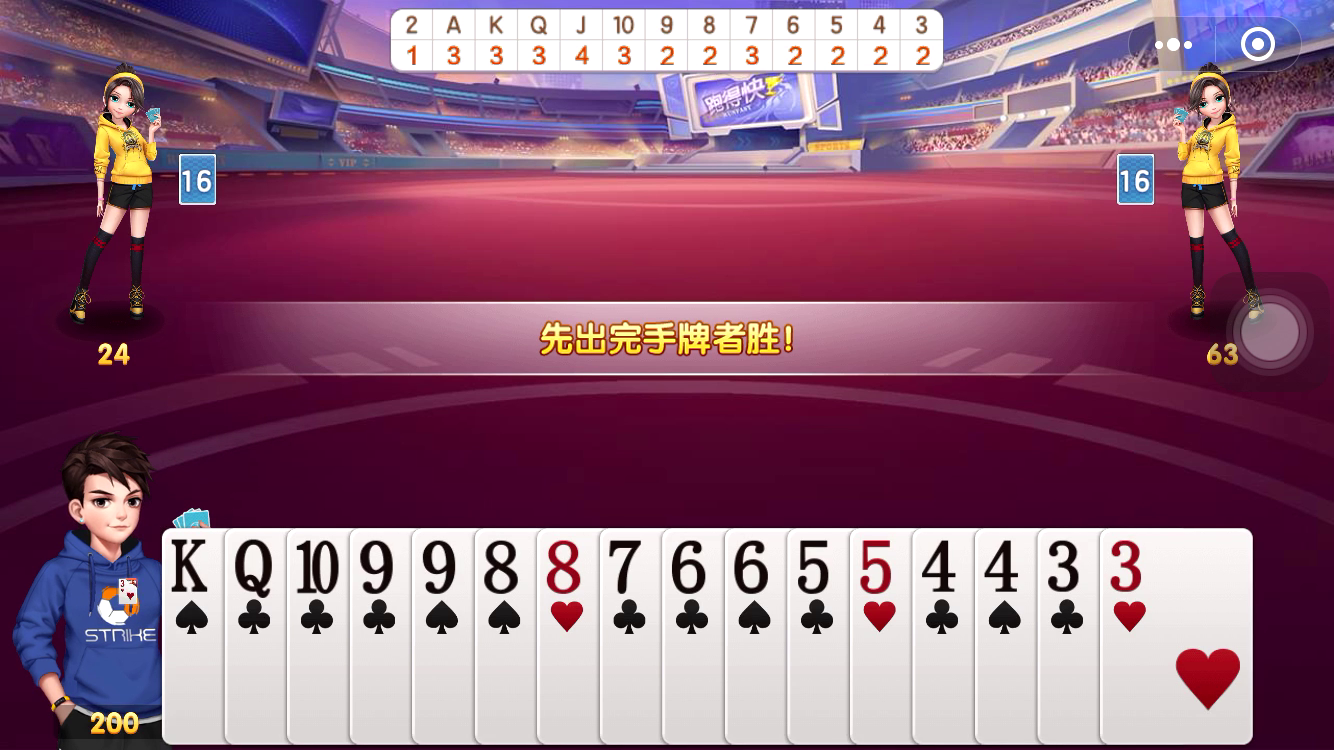K: (165, 531, 216, 599)
Q: (231, 536, 278, 601)
eight: (478, 536, 530, 600), (542, 537, 592, 598)
five: (792, 536, 839, 601), (855, 535, 903, 597)
four: (916, 535, 967, 601), (978, 534, 1028, 600)
nine: (353, 535, 403, 601), (416, 535, 466, 600)
seven: (602, 534, 652, 601)
six: (666, 534, 717, 601), (729, 535, 779, 601)
ten: (291, 536, 342, 601)
three: (1041, 535, 1093, 600), (1104, 535, 1156, 597)
